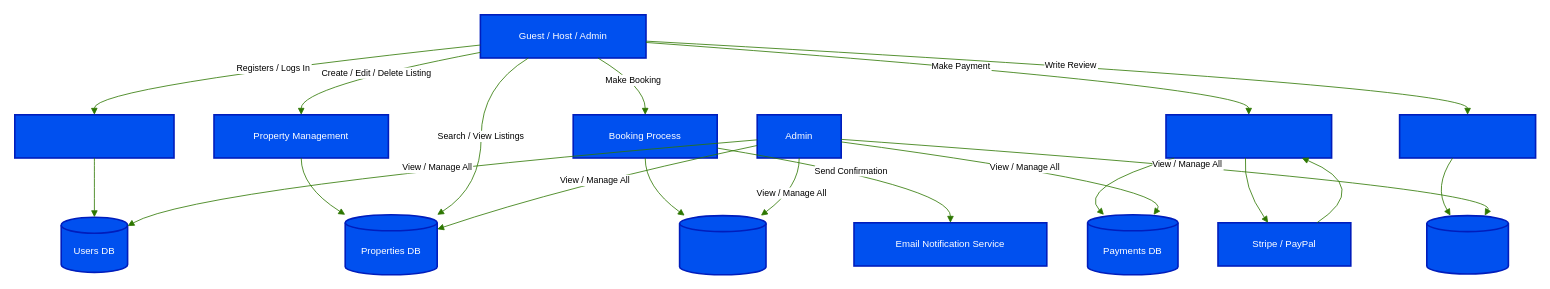
This 1550x289 diagram has some shape labels left out. The shapes that lost their labels are listed below. From the top down, each one's centre as x and y in pixels, then its label:
At pixel 94 136: "User Authentication".
At pixel 1248 136: "Payment Processing".
At pixel 1467 136: "Review System".
At pixel 722 244: "Bookings DB".
At pixel 1467 244: "Reviews DB".
